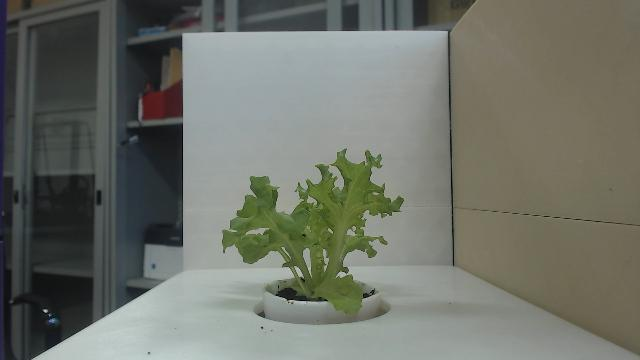Vegetative Stage: (222, 147, 406, 316)
